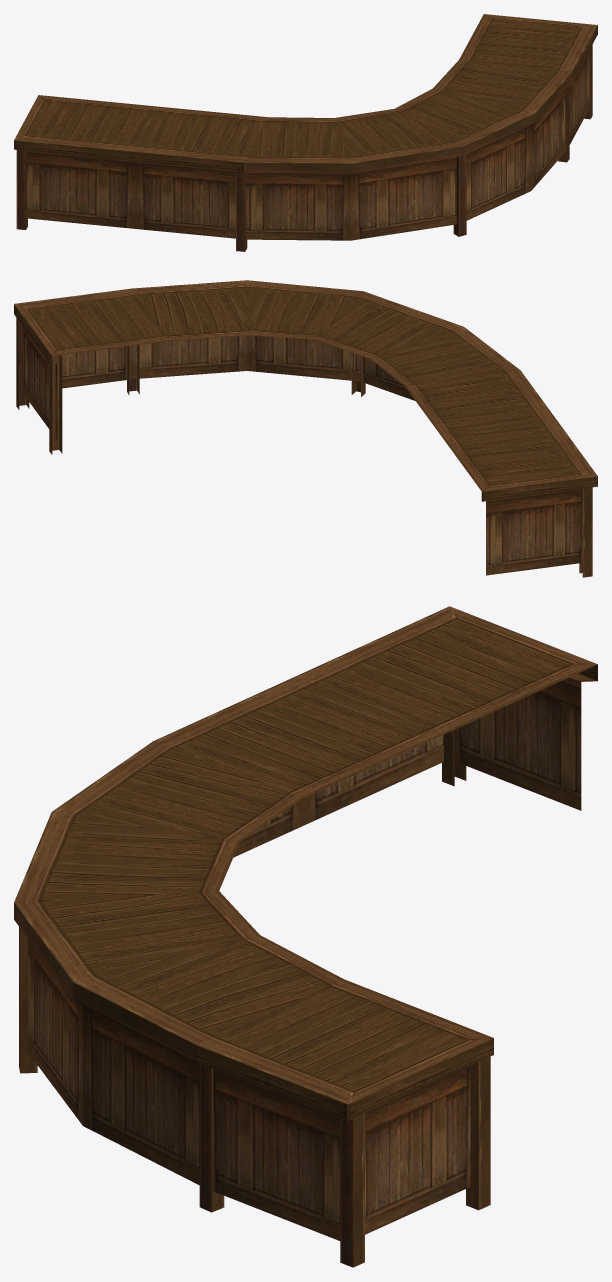
The model's file is xsz_zhuozi_2.FBX.
The picture shows the model from 3 angles, top to bottom: view 1: azimuth 30°, elevation 25°; view 2: azimuth 150°, elevation 25°; view 3: azimuth 270°, elevation 25°; orthographic projection. The views are drawn at different scales.
Parts seen in each view (by area): view 1: xsz_zhuozi_2; view 2: xsz_zhuozi_2; view 3: xsz_zhuozi_2.
Part boxes in pixels (x1=…): xsz_zhuozi_2: x1=14, y1=14, x2=597, y2=251; xsz_zhuozi_2: x1=14, y1=280, x2=597, y2=577; xsz_zhuozi_2: x1=14, y1=606, x2=597, y2=1267.
Size of the model in its own units: 484 by 240 by 75.37.
